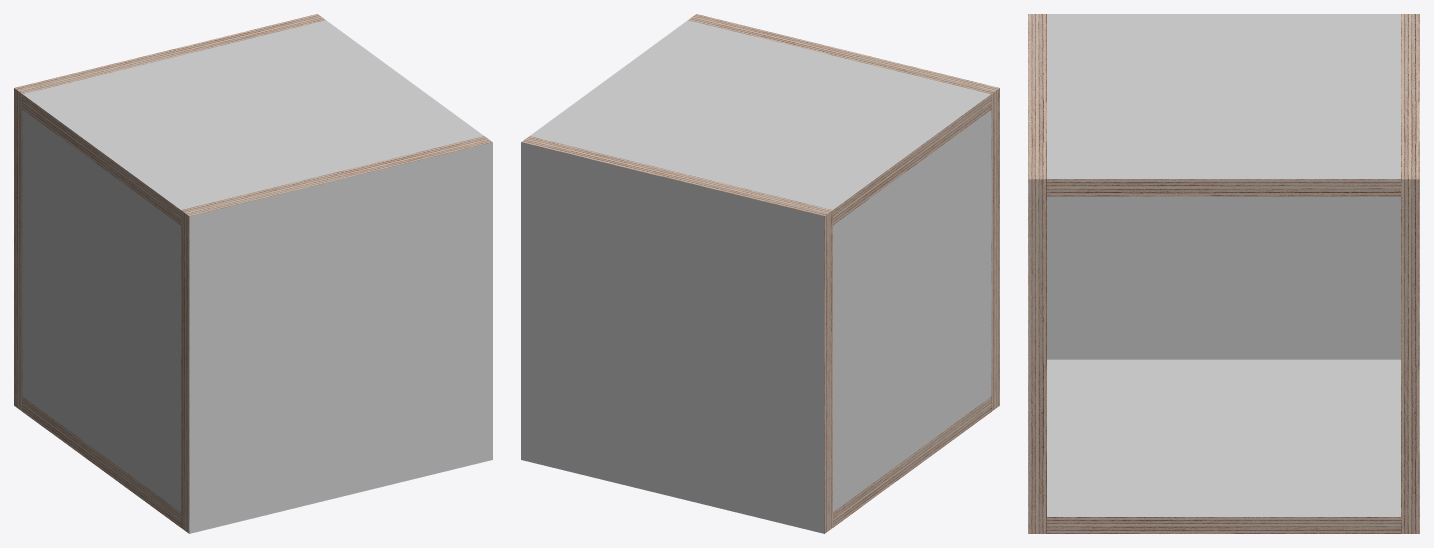
The model's file is Closed Shelf.fbx.
The picture shows the model from 3 angles, left to right: view 1: azimuth 30°, elevation 25°; view 2: azimuth 150°, elevation 25°; view 3: azimuth 270°, elevation 25°; orthographic projection. The views are drawn at different scales.
Visible parts, largest first — view 1: Closed Shelf TL, Closed Shelf BL, Closed Shelf L, Closed Shelf TR, Closed Shelf T, Closed Shelf BR, Closed Shelf B, Closed Shelf C, Closed Shelf R; view 2: Closed Shelf TR, Closed Shelf BR, Closed Shelf R, Closed Shelf T, Closed Shelf TL, Closed Shelf B, Closed Shelf BL, Closed Shelf L, Closed Shelf C; view 3: Closed Shelf B, Closed Shelf BR, Closed Shelf BL, Closed Shelf TR, Closed Shelf TL, Closed Shelf T, Closed Shelf L, Closed Shelf R, Closed Shelf C.
Part boxes in pixels (x1,y1,x2,y2): Closed Shelf TL: (131,99,492,321); Closed Shelf BL: (131,354,492,533); Closed Shelf L: (131,248,492,427); Closed Shelf TR: (14,14,375,236); Closed Shelf T: (72,57,433,278); Closed Shelf BR: (14,300,72,448); Closed Shelf B: (72,343,130,490); Closed Shelf C: (72,237,130,384); Closed Shelf R: (14,194,72,342); Closed Shelf TR: (521,99,882,321); Closed Shelf BR: (521,354,882,533); Closed Shelf R: (521,248,882,427); Closed Shelf T: (580,57,941,278); Closed Shelf TL: (638,14,999,236); Closed Shelf B: (883,343,941,490); Closed Shelf BL: (941,300,999,448); Closed Shelf L: (941,194,999,342); Closed Shelf C: (883,237,941,384); Closed Shelf B: (1158,258,1289,533); Closed Shelf BR: (1289,258,1419,533); Closed Shelf BL: (1028,258,1158,533); Closed Shelf TR: (1289,14,1419,297); Closed Shelf TL: (1028,14,1158,297); Closed Shelf T: (1158,14,1289,196); Closed Shelf L: (1028,196,1158,415); Closed Shelf R: (1289,196,1419,415); Closed Shelf C: (1158,196,1289,258).
Bounding box in the file's own units: 40 × 40.01 × 40.
